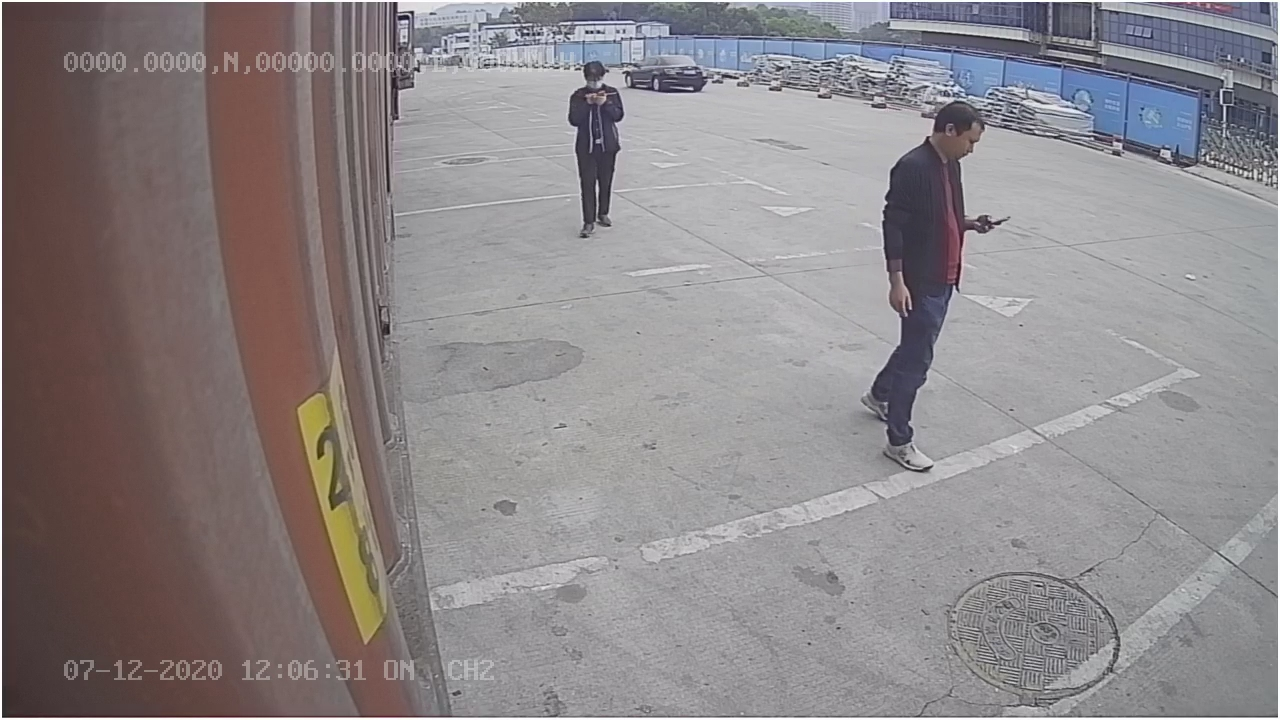person: (860, 93, 1000, 474)
